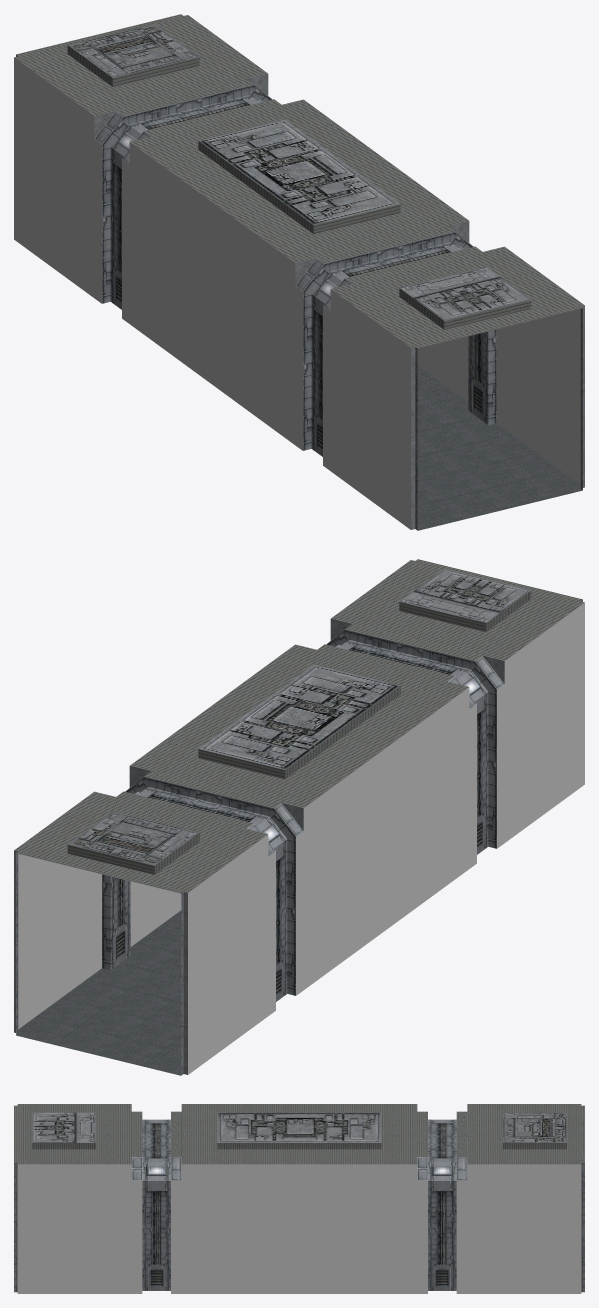
The model's file is poi_all_impl_bunker_small_outpost_s01_r7_hall11_mesh.fbx.
3 views of the same model, one above another, from view 1: azimuth 30°, elevation 25°; view 2: azimuth 150°, elevation 25°; view 3: azimuth 270°, elevation 25° (orthographic). The views are drawn at different scales.
Visible parts, largest first — view 1: mesh_node; view 2: mesh_node; view 3: mesh_node.
Boxes of the visible parts, x1=… form: mesh_node: x1=14, y1=14, x2=584, y2=530; mesh_node: x1=14, y1=559, x2=584, y2=1075; mesh_node: x1=14, y1=1104, x2=584, y2=1293.
Size of the model in its own units: 4 by 4.2 by 16.
